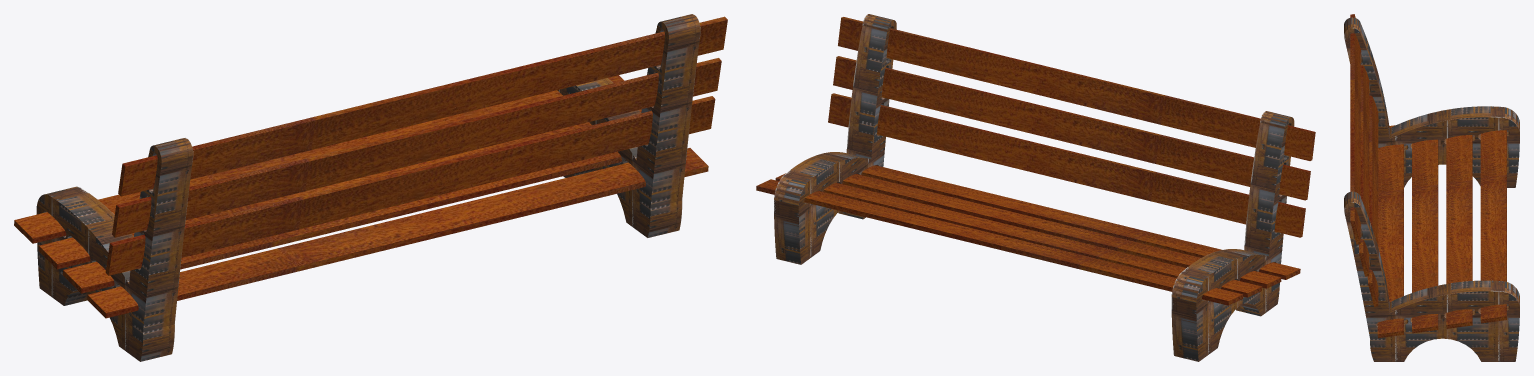
3 renders of one model, left to right at view 1: azimuth 30°, elevation 25°; view 2: azimuth 150°, elevation 25°; view 3: azimuth 270°, elevation 25°, orthographic. The views are drawn at different scales.
Parts seen in each view (by area): view 1: mesh2_mesh2-geometry, mesh26_mesh26-geometry, mesh27_mesh27-geometry, mesh3_mesh3-geometry, mesh25_mesh25-geometry, mesh13_mesh13-geometry, mesh23_mesh23-geometry, mesh1_mesh1-geometry, mesh24_mesh24-geometry; view 2: mesh2_mesh2-geometry, mesh27_mesh27-geometry, mesh26_mesh26-geometry, mesh3_mesh3-geometry, mesh13_mesh13-geometry, mesh1_mesh1-geometry, mesh23_mesh23-geometry, mesh25_mesh25-geometry, mesh24_mesh24-geometry; view 3: mesh13_mesh13-geometry, mesh3_mesh3-geometry, mesh1_mesh1-geometry, mesh23_mesh23-geometry, mesh24_mesh24-geometry, mesh25_mesh25-geometry, mesh2_mesh2-geometry, mesh26_mesh26-geometry, mesh27_mesh27-geometry.
Boxes of the visible parts, left/top/right/bottom form: mesh2_mesh2-geometry: left=118, top=16, right=727, bottom=196; mesh26_mesh26-geometry: left=112, top=58, right=721, bottom=237; mesh27_mesh27-geometry: left=105, top=96, right=715, bottom=275; mesh3_mesh3-geometry: left=36, top=138, right=193, bottom=361; mesh25_mesh25-geometry: left=87, top=148, right=708, bottom=318; mesh13_mesh13-geometry: left=557, top=14, right=700, bottom=237; mesh23_mesh23-geometry: left=63, top=151, right=621, bottom=293; mesh1_mesh1-geometry: left=14, top=75, right=624, bottom=243; mesh24_mesh24-geometry: left=38, top=109, right=641, bottom=269; mesh2_mesh2-geometry: left=838, top=17, right=1315, bottom=160; mesh27_mesh27-geometry: left=828, top=93, right=1305, bottom=237; mesh26_mesh26-geometry: left=833, top=56, right=1310, bottom=200; mesh3_mesh3-geometry: left=1171, top=111, right=1294, bottom=361; mesh13_mesh13-geometry: left=774, top=14, right=896, bottom=264; mesh1_mesh1-geometry: left=756, top=179, right=1242, bottom=305; mesh23_mesh23-geometry: left=842, top=174, right=1281, bottom=288; mesh25_mesh25-geometry: left=861, top=165, right=1300, bottom=279; mesh24_mesh24-geometry: left=775, top=173, right=1262, bottom=297; mesh13_mesh13-geometry: left=1344, top=191, right=1519, bottom=361; mesh3_mesh3-geometry: left=1344, top=17, right=1519, bottom=187; mesh1_mesh1-geometry: left=1480, top=130, right=1506, bottom=323; mesh23_mesh23-geometry: left=1412, top=139, right=1438, bottom=333; mesh24_mesh24-geometry: left=1446, top=135, right=1472, bottom=328; mesh25_mesh25-geometry: left=1377, top=125, right=1403, bottom=338; mesh2_mesh2-geometry: left=1350, top=14, right=1360, bottom=244; mesh26_mesh26-geometry: left=1359, top=49, right=1369, bottom=276; mesh27_mesh27-geometry: left=1368, top=81, right=1378, bottom=306.
Bounding box in the file's own units: 0.8913 × 0.3206 × 0.3206.
